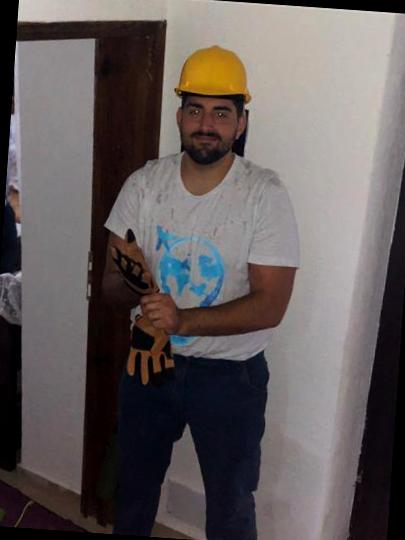helmet: (166, 43, 258, 118)
no_vest: (97, 144, 308, 370)
person: (98, 37, 320, 540)
